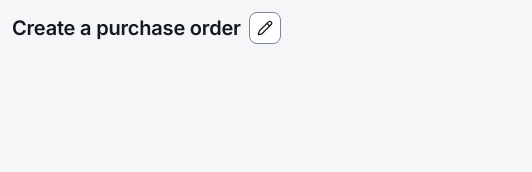
Scenario: ProjectTitle › Esc cancels, and an empty title is not saved
The image size is (532, 172).
Later steps or results of the test are not shown.
Click the button named "Rename process" at x=265, y=28, box [249,12,281,44]
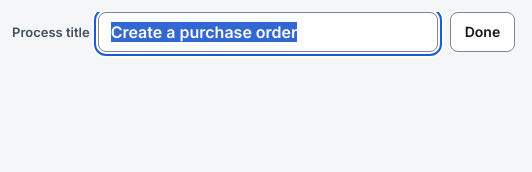
Type " changed" into the field at x=268, y=32, box [98,12,438,52]
Then press Escape
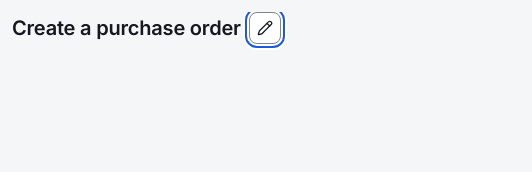
Result: the heading "Create a purchase order" is shown at [12,14,241,42]
